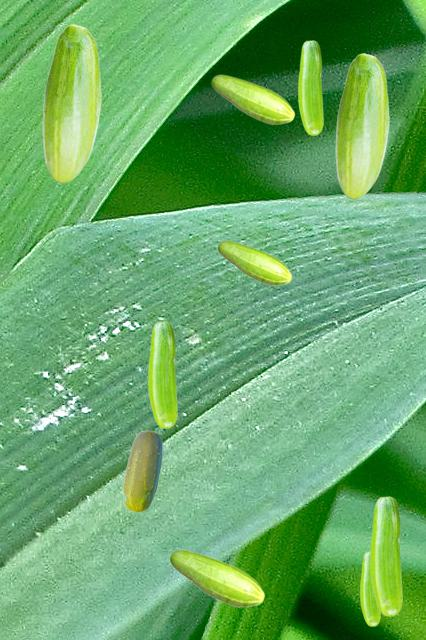cucumber: (42, 24, 100, 182), (335, 53, 388, 198), (169, 549, 264, 607), (211, 74, 294, 124), (370, 496, 401, 615), (217, 240, 291, 285), (122, 430, 161, 511), (148, 321, 176, 427), (298, 40, 322, 134), (360, 551, 379, 625)
